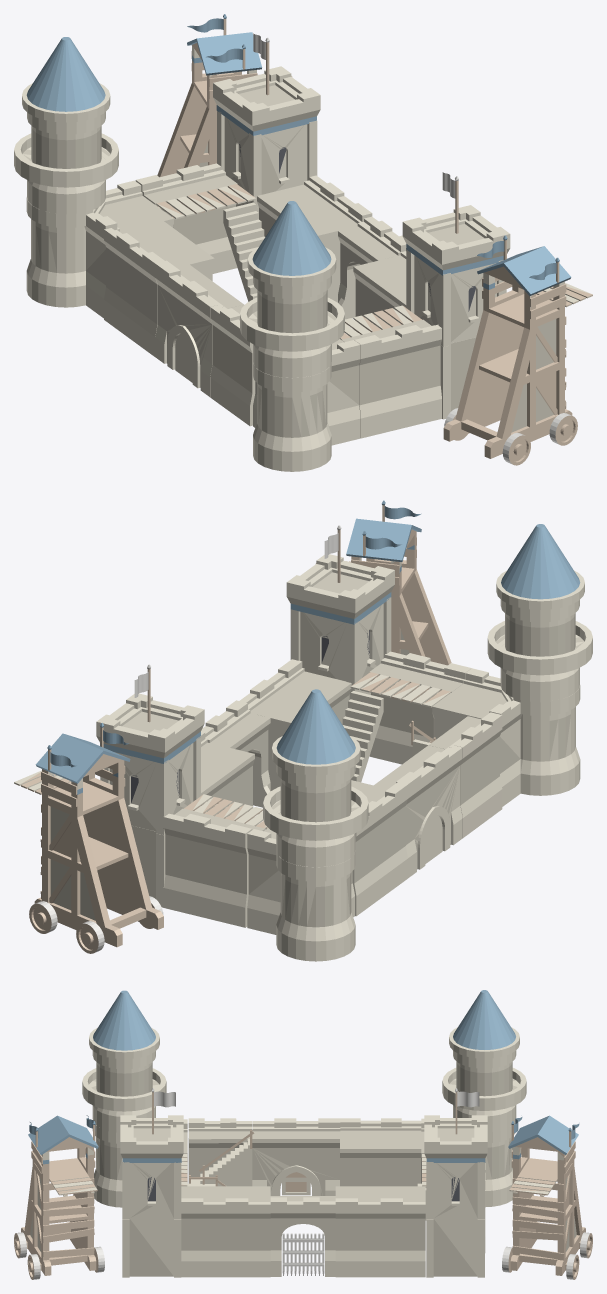
Rendered from 6level.glb.
3 views of the same model, one above another, from view 1: azimuth 30°, elevation 25°; view 2: azimuth 150°, elevation 25°; view 3: azimuth 270°, elevation 25° (orthographic). The views are drawn at different scales.
Visible parts, largest first — view 1: siegeTower.002, wallCornerHalfTower.007, wallNarrowWood.007, wallCornerHalfTower.006, towerBalcony.006, towerBalcony.007, wallHalf.012, siegeTower.003, wallNarrowWood.008, wallDoor.002, towerSquareMidWindows.024, towerSquareTopColor.018 (+11 smaller); view 2: siegeTower.003, wallCornerHalfTower.006, wallCornerHalfTower.007, wallNarrowWood.008, towerBalcony.007, towerBalcony.006, siegeTower.002, wallNarrowWood.007, towerSquareMidWindows.015, wallDoor.002, wallHalf.012, wallNarrowStairsFence.002 (+11 smaller); view 3: siegeTower.002, siegeTower.003, wallHalf.011, wallHalf.001_wallHalf.005, wallDoor.002, wallHalf.012, towerBalcony.007, towerBalcony.006, wallNarrowStairsFence.002, towerSquareMid.036, towerSquareMid.010_towerSquareMid.005, towerSquareMidWindows.015 (+12 smaller).
Boxes of the visible parts, x1,y1,x2,y2 form: siegeTower.002: [443, 235, 592, 465]; wallCornerHalfTower.007: [253, 339, 360, 471]; wallNarrowWood.007: [340, 305, 441, 438]; wallCornerHalfTower.006: [26, 180, 173, 318]; towerBalcony.006: [14, 112, 118, 214]; towerBalcony.007: [240, 276, 344, 377]; wallHalf.012: [104, 221, 214, 356]; siegeTower.003: [157, 14, 292, 177]; wallNarrowWood.008: [135, 163, 256, 273]; wallDoor.002: [155, 260, 243, 396]; towerSquareMidWindows.024: [217, 111, 317, 207]; towerSquareTopColor.018: [213, 66, 320, 135]; siegeTower.003: [14, 723, 163, 953]; wallCornerHalfTower.006: [247, 828, 355, 961]; wallCornerHalfTower.007: [432, 668, 580, 806]; wallNarrowWood.008: [163, 794, 267, 927]; towerBalcony.007: [487, 599, 592, 702]; towerBalcony.006: [263, 765, 368, 867]; siegeTower.002: [316, 500, 451, 665]; wallNarrowWood.007: [350, 651, 471, 764]; towerSquareMidWindows.015: [290, 597, 391, 694]; wallDoor.002: [374, 745, 462, 878]; wallHalf.012: [351, 780, 407, 916]; wallNarrowStairsFence.002: [409, 712, 502, 837]; siegeTower.002: [14, 1115, 104, 1279]; siegeTower.003: [502, 1115, 592, 1279]; wallHalf.011: [335, 1186, 425, 1277]; wallHalf.001_wallHalf.005: [181, 1186, 270, 1277]; wallDoor.002: [252, 1118, 340, 1195]; wallHalf.012: [340, 1118, 422, 1186]; towerBalcony.007: [82, 1051, 166, 1132]; towerBalcony.006: [442, 1050, 526, 1132]; wallNarrowStairsFence.002: [188, 1118, 254, 1186]; towerSquareMid.036: [122, 1218, 181, 1277]; towerSquareMid.010_towerSquareMid.005: [426, 1218, 484, 1277]; towerSquareMidWindows.015: [122, 1158, 181, 1219].
Size of the model in its own units: 44.9 by 35.27 by 91.49.
